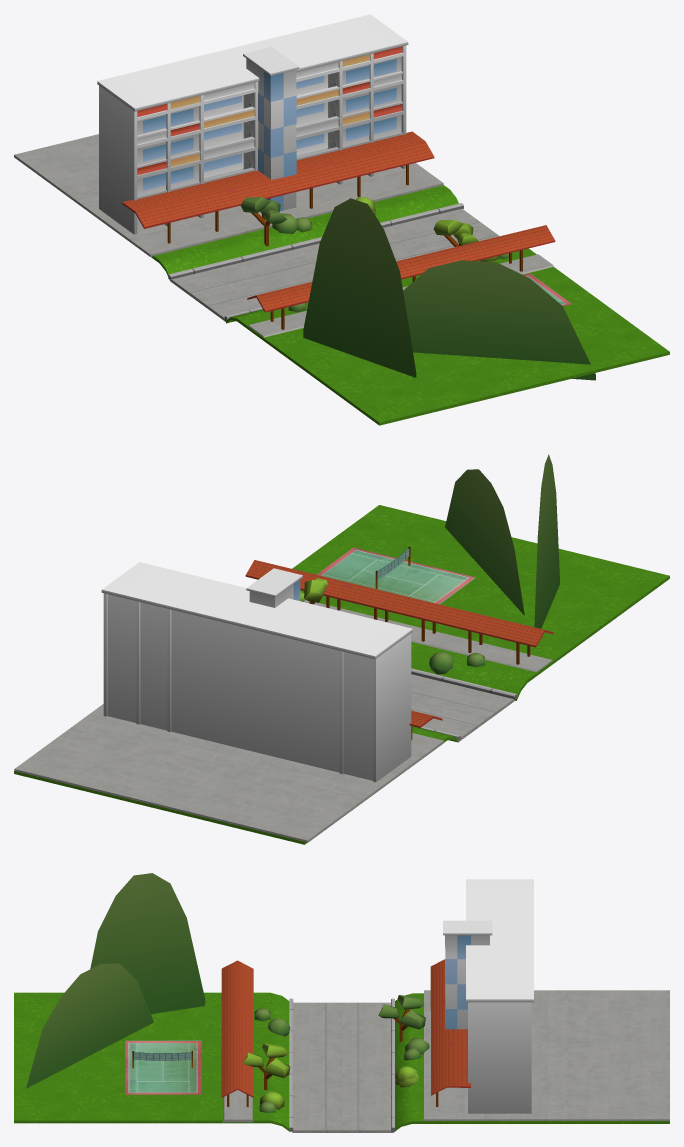
Rendered from Level 2 Chunk 2 V2.fbx.
The picture shows the model from 3 angles, top to bottom: view 1: azimuth 30°, elevation 25°; view 2: azimuth 150°, elevation 25°; view 3: azimuth 270°, elevation 25°; orthographic projection. The views are drawn at different scales.
Parts seen in each view (by area): view 1: pCube15807, pCube15771, pasted__pasted__pCube5667, pasted__pCube5745, pCube15780, pCube15804, pCube15779, pCube15772, pCube15812, pCube15761, pCube15821, pCube15751 (+1 smaller); view 2: pCube15807, pCube15780, pCube15771, pasted__pasted__pCube5667, pCube15812, pCube15805, pCube15779, pasted__pCube5745, pCube15821, pCube15772, pCube15767; view 3: pCube15780, pCube15771, pCube15807, pCube15779, pasted__pCube5745, pasted__pasted__pCube5667, pCube15805, pCube15812, pCube15804, pCube15772, pCube15751, pCube15753 (+3 smaller).
Boxes of the visible parts, x1,y1,x2,y2 form: pCube15807: [97, 14, 408, 234]; pCube15771: [226, 248, 669, 425]; pasted__pasted__pCube5667: [403, 260, 595, 380]; pasted__pCube5745: [303, 198, 416, 377]; pCube15780: [14, 134, 443, 256]; pCube15804: [122, 131, 434, 228]; pCube15779: [170, 208, 499, 321]; pCube15772: [151, 185, 458, 280]; pCube15812: [247, 225, 555, 312]; pCube15761: [168, 203, 463, 280]; pCube15821: [248, 254, 553, 337]; pCube15751: [240, 197, 287, 246]; pCube15807: [101, 562, 412, 782]; pCube15780: [14, 704, 443, 842]; pCube15771: [292, 505, 669, 700]; pasted__pasted__pCube5667: [445, 469, 524, 615]; pCube15812: [245, 560, 553, 647]; pCube15805: [316, 546, 475, 604]; pCube15779: [411, 674, 514, 742]; pasted__pCube5745: [534, 454, 559, 628]; pCube15821: [304, 599, 552, 672]; pCube15772: [14, 726, 458, 844]; pCube15767: [411, 668, 516, 699]; pCube15780: [424, 990, 669, 1120]; pCube15771: [14, 992, 289, 1131]; pCube15807: [443, 879, 533, 1113]; pCube15779: [292, 1002, 393, 1132]; pasted__pCube5745: [90, 873, 205, 1014]; pasted__pasted__pCube5667: [26, 963, 153, 1088]; pCube15805: [125, 1040, 201, 1094]; pCube15812: [221, 960, 253, 1097]; pCube15804: [430, 959, 470, 1095]; pCube15772: [393, 993, 669, 1132]; pCube15751: [378, 995, 425, 1042]; pCube15753: [243, 1043, 290, 1089].
Bounding box in the file's own units: 12.53 × 6.94 × 26.56.
Materials: 2 (2 with a texture image).
